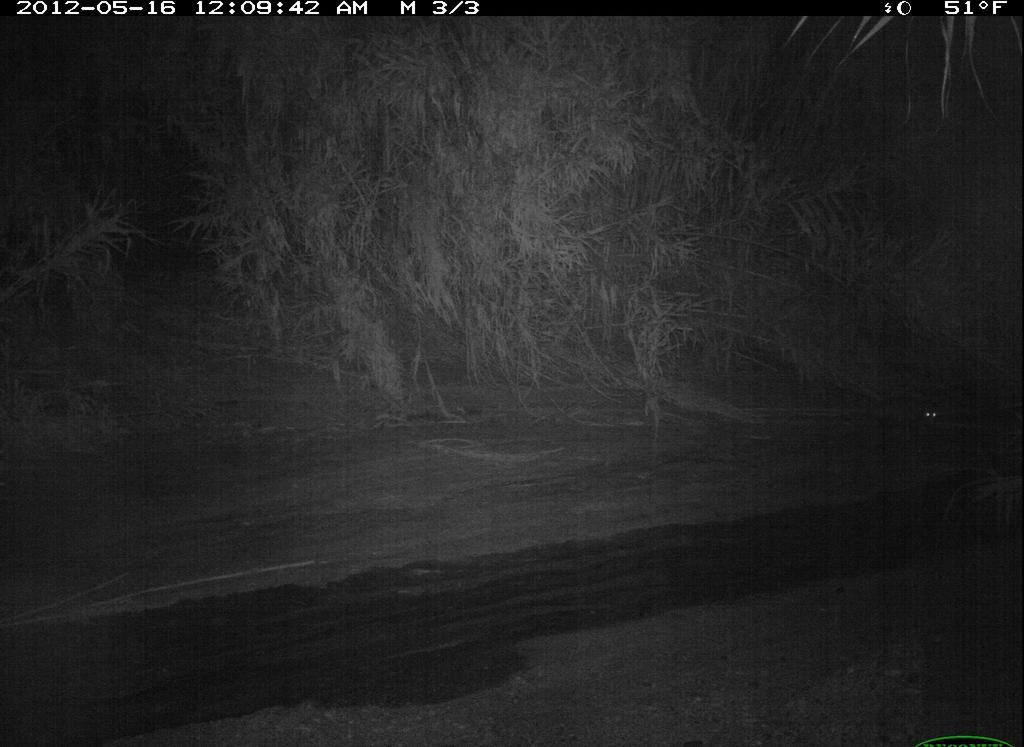opossum: (907, 396, 949, 428)
